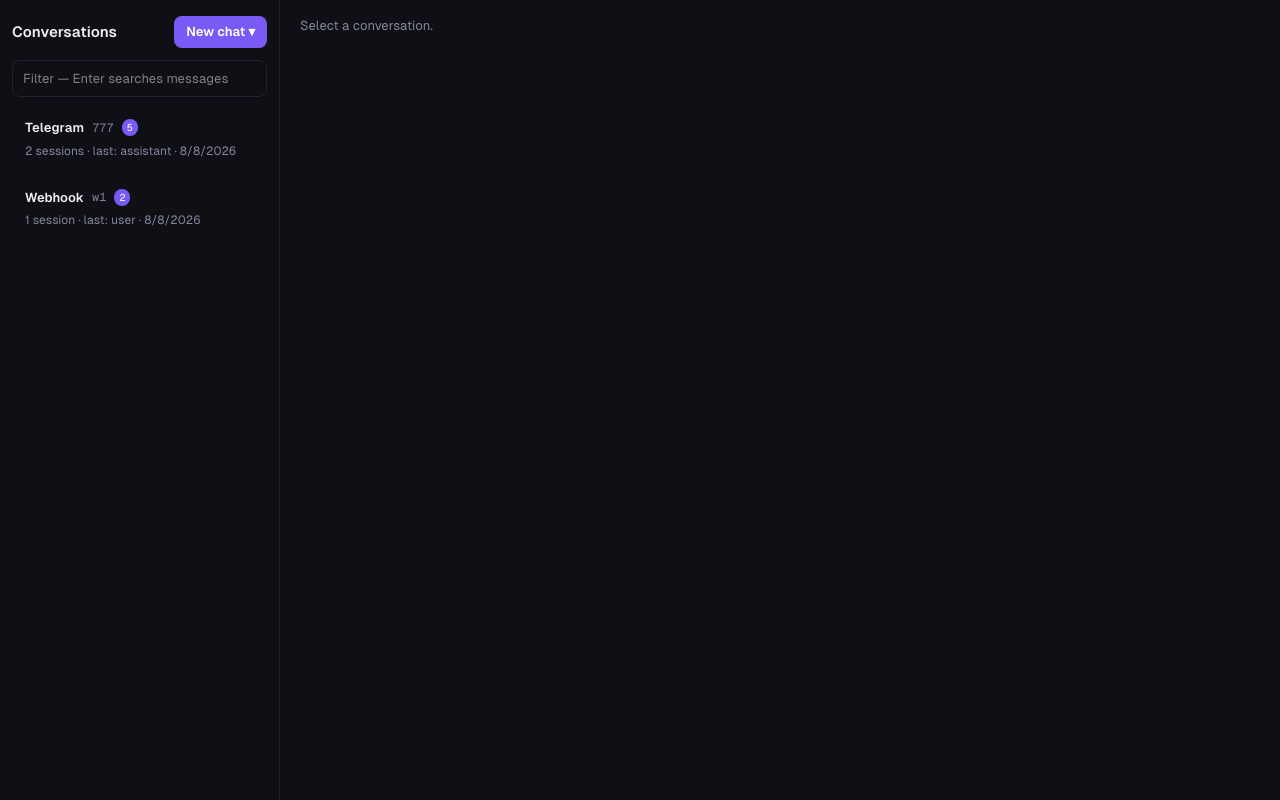
deletion behind explicit confirmation › deletes the conversation only after the exact confirm copy
This screenshot has width=1280, height=800.
What coordinates should you click on to do the following:
click the button "Telegram 777 5 2 sessions · last: assistant · 8/8/2026"
I would click on:
 (140, 139)
Its box is [12,107,267,170].
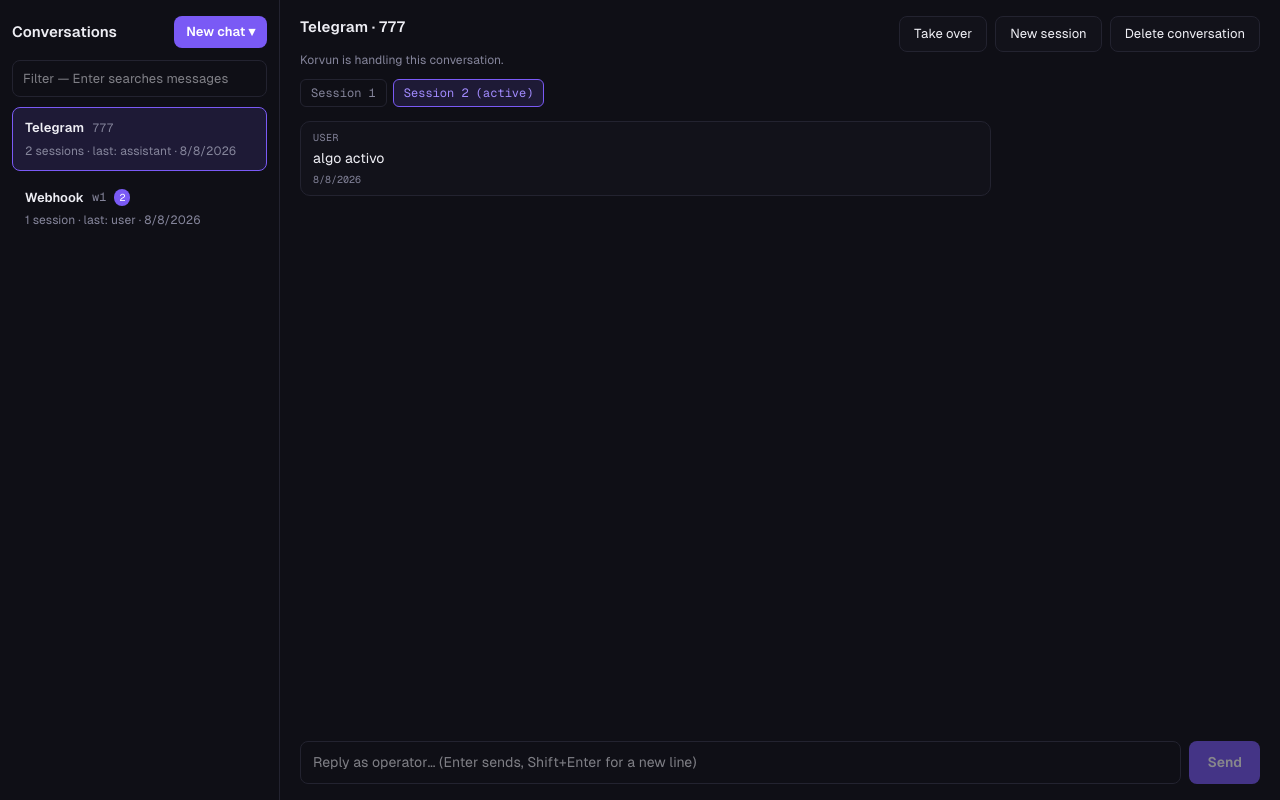
Expected: the text "algo activo" is shown, [313,150,384,166]
What coordinates should you click on to do the following:
click the button "Delete conversation"
I would click on:
 (1185, 34)
Its box is [1110,16,1260,52].
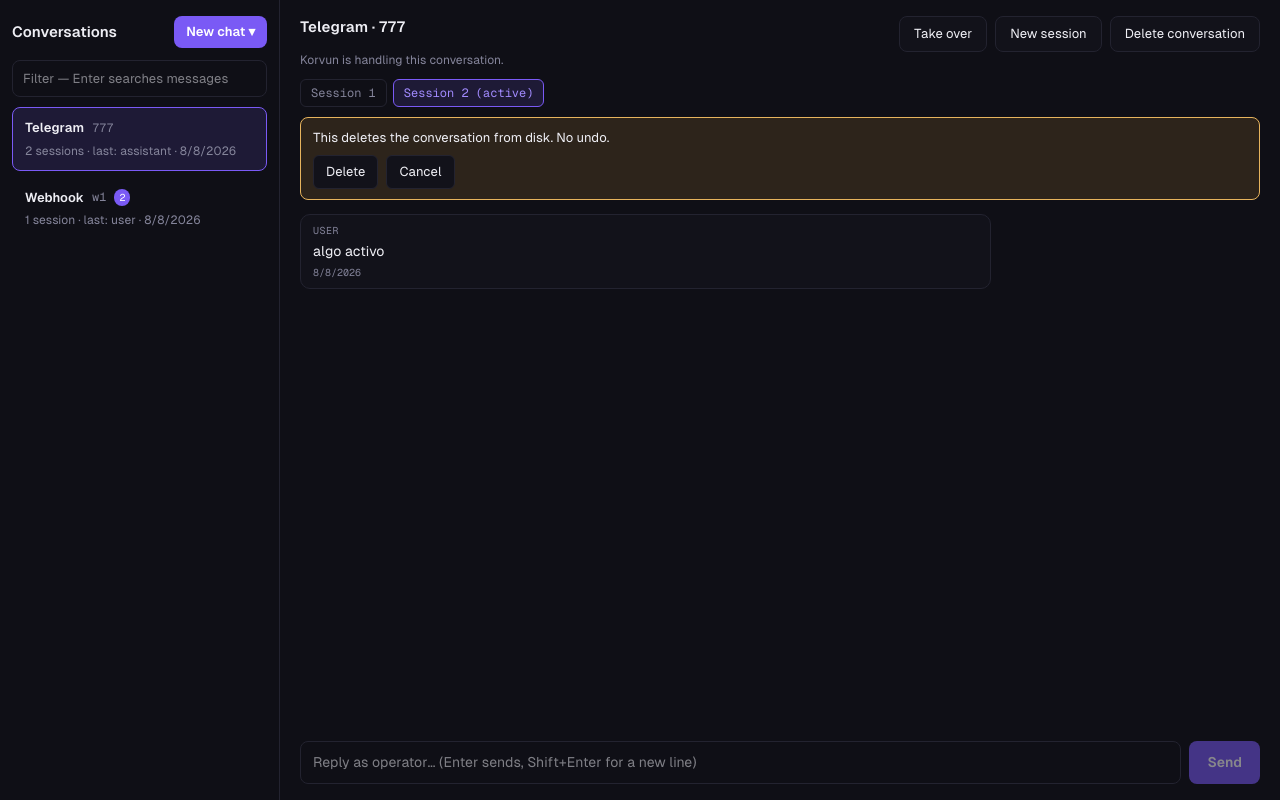
Expected: the text "This deletes the conversation from disk. No undo." is shown, [313,130,609,144]
What coordinates should you click on to do the following:
click the button "Delete"
I would click on:
 (346, 172)
Its box is [313,155,378,188].
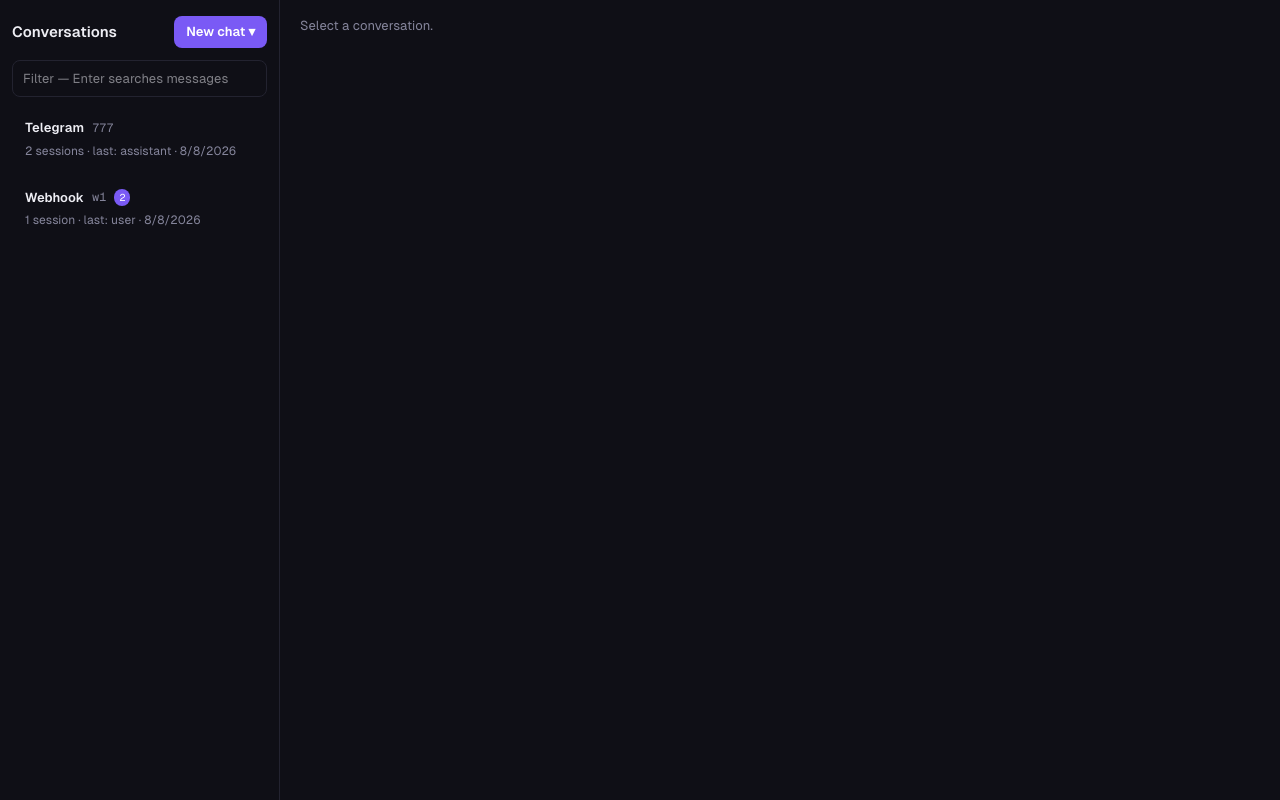
Expected: the text "Select a conversation." is shown, [300,18,433,33]
